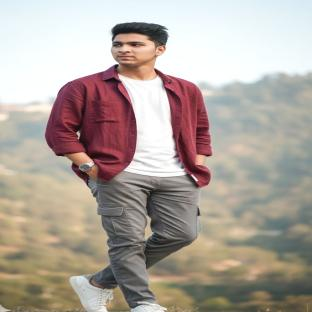Human: (46, 22, 212, 312)
